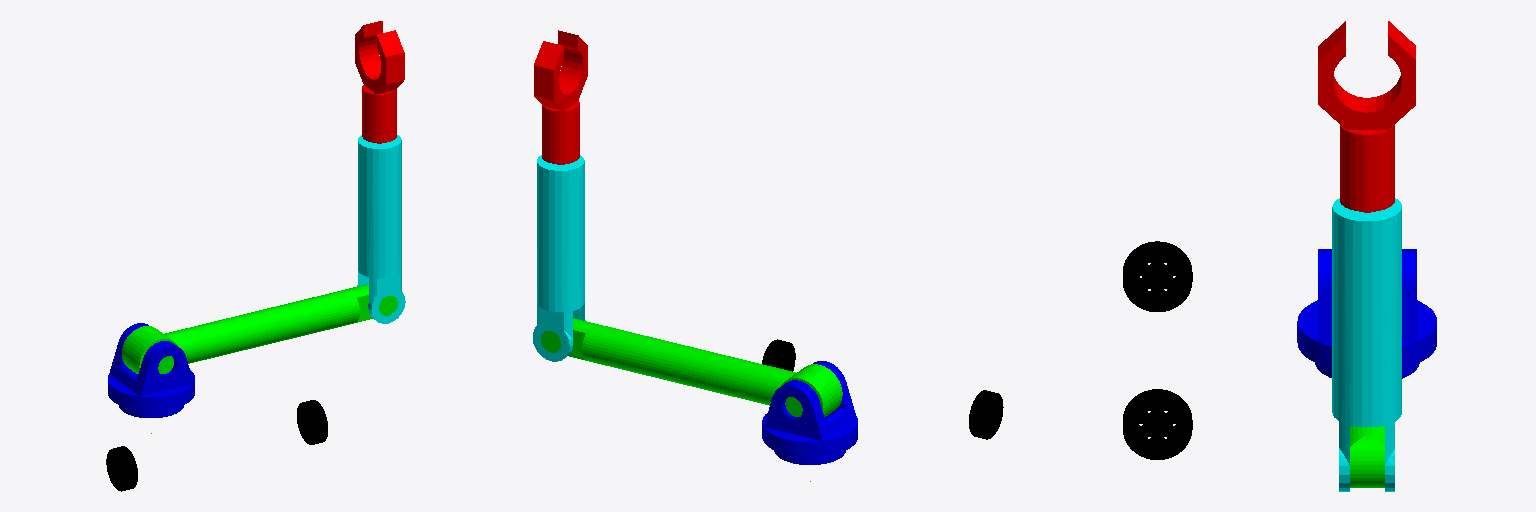
URDF robot description (robot_do_an):
<?xml version="1.0" encoding="utf-8"?>
<!-- This URDF was automatically created by SolidWorks to URDF Exporter! Originally created by [author] ([email redacted]) 
     Commit Version: 1.6.0-1-g15f4949  Build Version: 1.6.7594.29634
     For more information, please see http://wiki.ros.org/sw_urdf_exporter -->
<robot
  name="robot_do_an">
  <link name="base_footprint">
    <inertial>
      <mass value="0.0001"/>
      <origin xyz="0 0 0"/>
      <inertia ixx="0.0001" ixy="0.0" ixz="0.0" iyy="0.0001" iyz="0.0" izz="0.0001"/>
    </inertial>
    <visual>
      <origin rpy="0 0 0" xyz="0 0 0"/>
      <geometry>
        <box size="0.001 0.001 0.001"/>
      </geometry>
    </visual>
  </link>
  <gazebo reference="base_footprint">
    <turnGravityOff>false</turnGravityOff>
  </gazebo>
  <joint name="base_footprint_joint" type="fixed">
    <origin rpy="0 0 0" xyz="0 0 0.04"/>
    <parent link="base_footprint"/>
    <child link="robot_base"/>
  </joint>
  <!-- BASE-LINK -->
  
  <link
    name="robot_base">
    <inertial>
      <origin
        xyz="-7.2312E-07 -0.0056845 0.048085"
        rpy="0 0 0" />
      <mass
        value="13.997" />
      <inertia
        ixx="0.50582"
        ixy="-3.1746E-09"
        ixz="1.1957E-11"
        iyy="0.38285"
        iyz="6.1462E-06"
        izz="0.88755" />
    </inertial>
    <visual>
      <origin
        xyz="0 0 0"
        rpy="0 0 0" />
      <geometry>
        <mesh
          filename="package://robot_do_an/meshes/robot_base.STL" />
      </geometry>
      <material
        name="">
        <color
          rgba="0.79216 0.81961 0.93333 1" />
      </material>
    </visual>
    <collision>
      <origin
        xyz="0 0 0"
        rpy="0 0 0" />
      <geometry>
        <mesh
          filename="package://robot_do_an/meshes/robot_base.STL" />
      </geometry>
    </collision>
  </link>
  <gazebo reference="robot_base">
    <material>Gazebo/Gray</material>
    <turnGravityOff>false</turnGravityOff>
  </gazebo>
  <link
    name="right_wheel">
    <inertial>
      <origin
        xyz="-0.00019487 0 0"
        rpy="0 0 0" />
      <mass
        value="0.35316" />
      <inertia
        ixx="0.00057446"
        ixy="-4.4367E-19"
        ixz="2.7968E-19"
        iyy="0.00030435"
        iyz="-1.0268E-20"
        izz="0.00030435" />
    </inertial>
    <visual>
      <origin
        xyz="0 0 0"
        rpy="0 0 0" />
      <geometry>
        <mesh
          filename="package://robot_do_an/meshes/right_wheel.STL" />
      </geometry>
      <material
        name="">
        <color
          rgba="0 0 0 1" />
      </material>
    </visual>
    <collision>
      <origin
        xyz="0 0 0"
        rpy="0 0 0" />
      <geometry>
        <mesh
          filename="package://robot_do_an/meshes/right_wheel.STL" />
      </geometry>
    </collision>
  </link>
  <gazebo reference="right_wheel">
    <mu1 value="10.0"/>
    <mu2 value="10.0"/>
    <kp value="100.0"/>
    <kd value="10.0"/>
    <fdir1 value="1 1 0"/>
    <material>Gazebo/Dark</material>
    <turnGravityOff>false</turnGravityOff>
  </gazebo>
  <joint
    name="right_wheel_joint"
    type="continuous">
    <origin
      xyz="0.25 -0.3 0.05"
      rpy="0 0 0" />
    <parent
      link="robot_base" />
    <child
      link="right_wheel" />
    <axis
      xyz="1 0 0" />
    <limit
      effort="40"
      velocity="20" />
    <dynamics
      damping="1"
      friction="0.1" />
  </joint>
  <transmission name="right_wheel_joint_trans">
    <type>transmission_interface/SimpleTransmission</type>
    <joint name="right_wheel_joint">
      <hardwareInterface>EffortJointInterface</hardwareInterface>
    </joint>
    <actuator name="right_wheel_joint_motor">
      <hardwareInterface>EffortJointInterface</hardwareInterface>
      <mechanicalReduction>1</mechanicalReduction>
    </actuator>
  </transmission>
  <link
    name="left_wheel">
    <inertial>
      <origin
        xyz="0 0 0"
        rpy="0 0 0" />
      <mass
        value="0.35316" />
      <inertia
        ixx="0.00057446"
        ixy="-2.8201E-20"
        ixz="1.1336E-20"
        iyy="0.00030435"
        iyz="-1.3553E-20"
        izz="0.00030435" />
    </inertial>
    <visual>
      <origin
        xyz="0 0 0"
        rpy="0 0 0" />
      <geometry>
        <mesh
          filename="package://robot_do_an/meshes/right_wheel.STL" />
      </geometry>
      <material
        name="">
        <color
          rgba="0 0 0 1" />
      </material>
    </visual>
    <collision>
      <origin
        xyz="0 0 0"
        rpy="0 0 0" />
      <geometry>
        <mesh
          filename="package://robot_do_an/meshes/right_wheel.STL" />
      </geometry>
    </collision>
  </link>
  <gazebo reference="left_wheel">
    <mu1 value="10.0"/>
    <mu2 value="10.0"/>
    <kp value="100.0"/>
    <kd value="10.0"/>
    <fdir1 value="1 1 0"/>
    <material>Gazebo/Dark</material>
    <turnGravityOff>false</turnGravityOff>
  </gazebo>
  <joint
    name="left_wheel_joint"
    type="continuous">
    <origin
      xyz="-0.25 -0.3 0.05"
      rpy="0 0 0" />
    <parent
      link="robot_base" />
    <child
      link="left_wheel" />
    <axis
      xyz="1 0 0" />
    <limit
      effort="40"
      velocity="20" />
    <dynamics
      damping="1"
      friction="0.1" />
  </joint>
  <transmission name="left_wheel_joint_trans">
    <type>transmission_interface/SimpleTransmission</type>
    <joint name="left_wheel_joint">
      <hardwareInterface>EffortJointInterface</hardwareInterface>
    </joint>
    <actuator name="left_wheel_joint_motor">
      <hardwareInterface>EffortJointInterface</hardwareInterface>
      <mechanicalReduction>1</mechanicalReduction>
    </actuator>
  </transmission>
  <link
    name="link_1">
    <inertial>
      <origin
        xyz="8.4677E-05 -0.068159 0"
        rpy="0 0 0" />
      <mass
        value="6.3121" />
      <inertia
        ixx="0.023601"
        ixy="-7.9977E-05"
        ixz="4.7533E-19"
        iyy="0.026795"
        iyz="-1.2433E-17"
        izz="0.021379" />
    </inertial>
    <visual>
      <origin
        xyz="0 0 0"
        rpy="0 0 0" />
      <geometry>
        <mesh
          filename="package://robot_do_an/meshes/link_1.STL" />
      </geometry>
      <material
        name="">
        <color
          rgba="0 0 1 1" />
      </material>
    </visual>
    <collision>
      <origin
        xyz="0 0 0"
        rpy="0 0 0" />
      <geometry>
        <mesh
          filename="package://robot_do_an/meshes/link_1.STL" />
      </geometry>
    </collision>
  </link>
  <gazebo reference="link_1">
    <mu1 value="1.0"/>
    <mu2 value="1.0"/>
    <kp value="10000000.0"/>
    <kd value="1.0"/>
    <fdir1 value="1 0 0"/>
    <material>Gazebo/Green</material>
    <turnGravityOff>false</turnGravityOff>
  </gazebo>
  <joint
    name="joint_1"
    type="continuous">
    <origin
      xyz="0 0 0.157"
      rpy="1.5708 0 0" />
    <parent
      link="robot_base" />
    <child
      link="link_1" />
    <axis
      xyz="0 1 0" />
    <limit
      effort="50"
      velocity="10" />
    <dynamics
      damping="2"
      friction="0.5" />
  </joint>
  <transmission name="joint1_trans">
    <type>transmission_interface/SimpleTransmission</type>
    <joint name="joint_1">
      <hardwareInterface>EffortJointInterface</hardwareInterface>
    </joint>
    <actuator name="joint1_motor">
      <hardwareInterface>EffortJointInterface</hardwareInterface>
      <mechanicalReduction>1</mechanicalReduction>
    </actuator>
  </transmission>
  <link
    name="link_2">
    <inertial>
      <origin
        xyz="0.25911 -3.2672E-06 -3.0706E-07"
        rpy="0 0 0" />
      <mass
        value="7.3625" />
      <inertia
        ixx="0.0068616"
        ixy="1.3836E-06"
        ixz="-1.4024E-07"
        iyy="0.30711"
        iyz="2.2307E-07"
        izz="0.30718" />
    </inertial>
    <visual>
      <origin
        xyz="0 0 0"
        rpy="0 0 0" />
      <geometry>
        <mesh
          filename="package://robot_do_an/meshes/link_2.STL" />
      </geometry>
      <material
        name="">
        <color
          rgba="0 1 0 1" />
      </material>
    </visual>
    <collision>
      <origin
        xyz="0 0 0"
        rpy="0 0 0" />
      <geometry>
        <mesh
          filename="package://robot_do_an/meshes/link_2.STL" />
      </geometry>
    </collision>
  </link>
  <gazebo reference="link_2">
    <mu1 value="1.0"/>
    <mu2 value="1.0"/>
    <kp value="10000000.0"/>
    <kd value="1.0"/>
    <fdir1 value="1 0 0"/>
    <material>Gazebo/Blue</material>
    <turnGravityOff>false</turnGravityOff>
  </gazebo>
  <joint
    name="joint_2"
    type="revolute">
    <origin
      xyz="0 0 0"
      rpy="0 0 0" />
    <parent
      link="link_1" />
    <child
      link="link_2" />
    <axis
      xyz="0 0 1" />
    <limit
      lower="-0.1"
      upper="3.25"
      effort="50"
      velocity="10" />
    <dynamics
      damping="0.2"
      friction="0.5" />
  </joint>
  <transmission name="joint2_trans">
    <type>transmission_interface/SimpleTransmission</type>
    <joint name="joint_2">
      <hardwareInterface>EffortJointInterface</hardwareInterface>
    </joint>
    <actuator name="joint2_motor">
      <hardwareInterface>EffortJointInterface</hardwareInterface>
      <mechanicalReduction>1</mechanicalReduction>
    </actuator>
  </transmission>
  <link
    name="link_3">
    <inertial>
      <origin
        xyz="1.1455E-09 1.5585E-10 0.21926"
        rpy="0 0 0" />
      <mass
        value="5.4822" />
      <inertia
        ixx="0.066031"
        ixy="3.0959E-10"
        ixz="1.0869E-09"
        iyy="0.065845"
        iyz="-1.9771E-11"
        izz="0.0070913" />
    </inertial>
    <visual>
      <origin
        xyz="0 0 0"
        rpy="0 0 0" />
      <geometry>
        <mesh
          filename="package://robot_do_an/meshes/link_3.STL" />
      </geometry>
      <material
        name="">
        <color
          rgba="0 1 1 1" />
      </material>
    </visual>
    <collision>
      <origin
        xyz="0 0 0"
        rpy="0 0 0" />
      <geometry>
        <mesh
          filename="package://robot_do_an/meshes/link_3.STL" />
      </geometry>
    </collision>
  </link>
  <gazebo reference="link_3">
    <mu1 value="1.0"/>
    <mu2 value="1.0"/>
    <kp value="10000000.0"/>
    <kd value="1.0"/>
    <fdir1 value="1 0 0"/>
    <material>Gazebo/Yellow</material>
    <turnGravityOff>false</turnGravityOff>
  </gazebo>
  <joint
    name="joint_3"
    type="revolute">
    <origin
      xyz="0.6 0 0"
      rpy="-1.5708 3.14156 0" />
    <parent
      link="link_2" />
    <child
      link="link_3" />
    <axis
      xyz="0 1 0" />
    <limit
      lower="-2.9"
      upper="0.5"
      effort="40"
      velocity="15" />
    <dynamics
      damping="1.5"
      friction="0.3" />
  </joint>
  <transmission name="joint3_trans">
    <type>transmission_interface/SimpleTransmission</type>
    <joint name="joint_3">
      <hardwareInterface>EffortJointInterface</hardwareInterface>
    </joint>
    <actuator name="joint3_motor">
      <hardwareInterface>EffortJointInterface</hardwareInterface>
      <mechanicalReduction>1</mechanicalReduction>
    </actuator>
  </transmission>
  <link
    name="link_4">
    <inertial>
      <origin
        xyz="1.1102E-16 4.4409E-16 -0.1118"
        rpy="0 0 0" />
      <mass
        value="2.9797" />
      <inertia
        ixx="0.015188"
        ixy="-2.3466E-20"
        ixz="4.58E-19"
        iyy="0.013617"
        iyz="3.7314E-17"
        izz="0.0035667" />
    </inertial>
    <visual>
      <origin
        xyz="0 0 0"
        rpy="0 0 0" />
      <geometry>
        <mesh
          filename="package://robot_do_an/meshes/link_4.STL" />
      </geometry>
      <material
        name="">
        <color
          rgba="1 0 0 1" />
      </material>
    </visual>
    <collision>
      <origin
        xyz="0 0 0"
        rpy="0 0 0" />
      <geometry>
        <mesh
          filename="package://robot_do_an/meshes/link_4.STL" />
      </geometry>
    </collision>
  </link>
  <gazebo reference="link_4">
    <mu1 value="1.0"/>
    <mu2 value="1.0"/>
    <kp value="10000000.0"/>
    <kd value="1.0"/>
    <fdir1 value="1 0 0"/>
    <material>Gazebo/Red</material>
    <turnGravityOff>false</turnGravityOff>
  </gazebo>
  <joint
    name="joint_4"
    type="continuous">
    <origin
      xyz="0 0 0.61"
      rpy="0 0 0" />
    <parent
      link="link_3" />
    <child
      link="link_4" />
    <axis
      xyz="0 0 1" />
    <limit
      effort="20"
      velocity="25" />
    <dynamics
      damping="1.2"
      friction="0.2" />
  </joint>
  <transmission name="joint4_trans">
    <type>transmission_interface/SimpleTransmission</type>
    <joint name="joint_4">
      <hardwareInterface>EffortJointInterface</hardwareInterface>
    </joint>
    <actuator name="joint4_motor">
      <hardwareInterface>EffortJointInterface</hardwareInterface>
      <mechanicalReduction>1</mechanicalReduction>
    </actuator>
  </transmission>
  <gazebo>
    <plugin name="gazebo_ros_control" filename="libgazebo_ros_control.so">
      <robotNamespace>/robot_do_an</robotNamespace>
      <robotSimType>gazebo_ros_control/DefaultRobotHWSim</robotSimType>
    </plugin>
  </gazebo>
</robot>

--- Render facts (derived) ---
Views: 3 orthographic renders of the robot side by side, from view 1: azimuth 30°, elevation 25°; view 2: azimuth 150°, elevation 25°; view 3: azimuth 270°, elevation 25°.
Robot: robot_do_an — 8 links, 7 joints (2 revolute, 4 continuous, 1 fixed); root link base_footprint; default pose: every joint at zero.
Visible links, largest first — view 1: link_2, link_3, link_1, link_4, left_wheel, right_wheel; view 2: link_2, link_3, link_1, link_4, left_wheel, right_wheel; view 3: link_3, link_4, link_1, right_wheel, left_wheel, link_2.
Link boxes in pixels (left/top/right/bottom): link_2: left=122, top=284, right=397, bottom=373; link_3: left=357, top=135, right=405, bottom=323; link_1: left=108, top=323, right=194, bottom=417; link_4: left=355, top=21, right=404, bottom=143; left_wheel: left=106, top=446, right=137, bottom=491; right_wheel: left=297, top=400, right=327, bottom=444; link_2: left=541, top=318, right=842, bottom=416; link_3: left=533, top=155, right=585, bottom=361; link_1: left=762, top=361, right=857, bottom=464; link_4: left=534, top=30, right=587, bottom=164; left_wheel: left=969, top=390, right=1003, bottom=439; right_wheel: left=762, top=339, right=795, bottom=371; link_3: left=1332, top=198, right=1401, bottom=491; link_4: left=1318, top=21, right=1415, bottom=212; link_1: left=1297, top=249, right=1436, bottom=378; right_wheel: left=1123, top=389, right=1192, bottom=459; left_wheel: left=1123, top=241, right=1192, bottom=311; link_2: left=1350, top=426, right=1384, bottom=487.
Bounding box of the posed robot: 0.9145 × 0.45 × 0.8797 m (x, y, z).
6 mesh visuals loaded from 6 distinct referenced files (5 binary STL); not drawn: 1 (reference not matched to a file when rendering).
